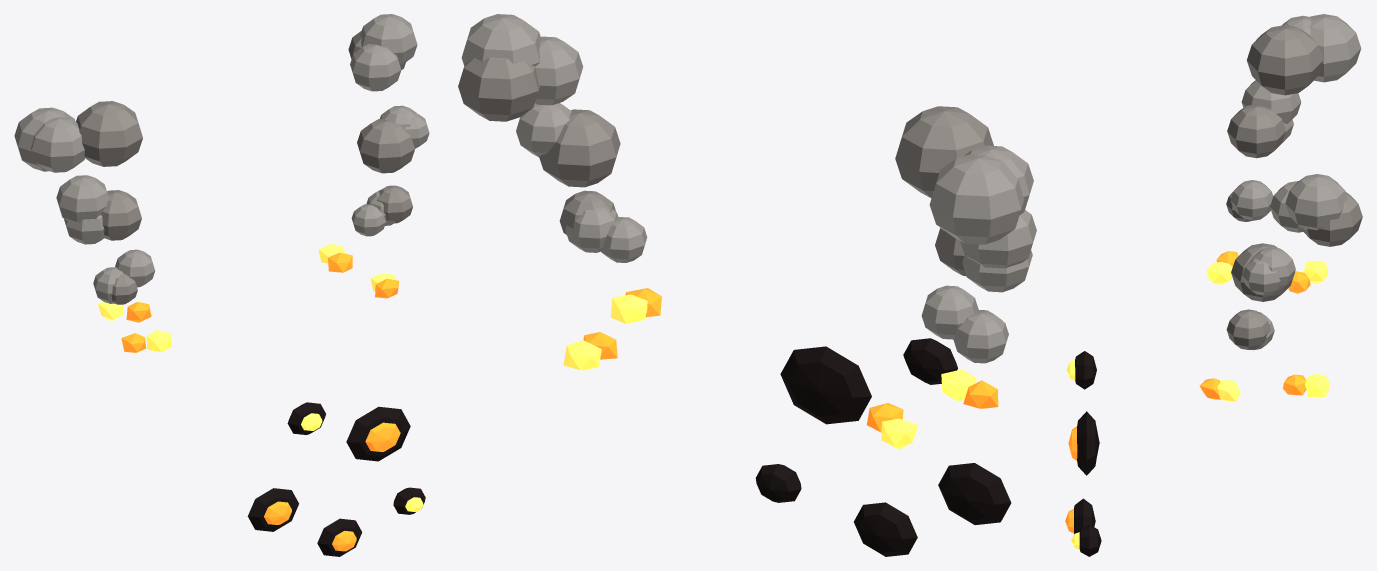
The model's file is charred_embers.glb.
The picture shows the model from 3 angles, left to right: view 1: azimuth 30°, elevation 25°; view 2: azimuth 150°, elevation 25°; view 3: azimuth 270°, elevation 25°; orthographic projection. The views are drawn at different scales.
Parts seen in each view (by area): view 1: charred_embers; view 2: charred_embers; view 3: charred_embers.
Part boxes in pixels (x1=…): charred_embers: x1=14, y1=14, x2=429, y2=556; charred_embers: x1=458, y1=14, x2=1036, y2=556; charred_embers: x1=1065, y1=14, x2=1362, y2=556.
Bounding box in the file's own units: 0.9768 × 0.9981 × 0.603.
